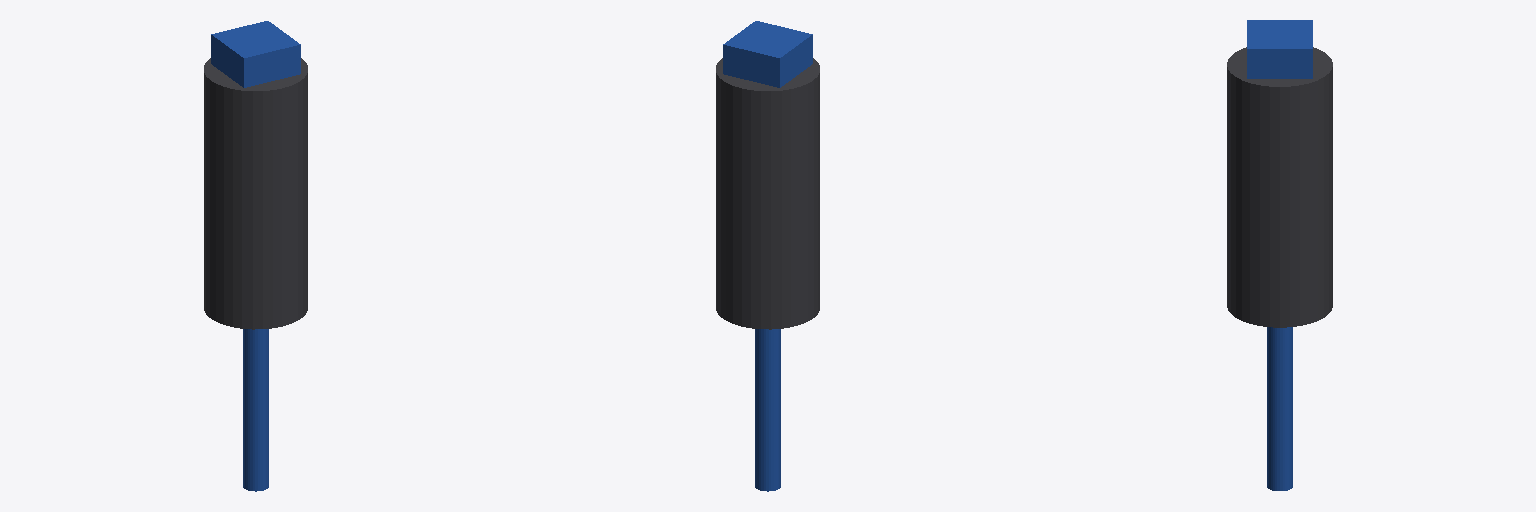
robot.urdf — bantam_cnc:
<?xml version="1.0"?>
<robot name="bantam_cnc">
  <!-- Bantam Tools Desktop CNC Milling Machine -->
  <!-- Single mesh model with work envelope simulation -->

  <!-- Materials -->
  <material name="BantamGray">
    <color rgba="0.3 0.3 0.32 1"/>
  </material>
  <material name="BantamBlue">
    <color rgba="0.2 0.4 0.7 1"/>
  </material>

  <!-- World link -->
  <link name="world"/>

  <joint name="world_joint" type="fixed">
    <parent link="world"/>
    <child link="base_link"/>
    <origin xyz="0 0 0" rpy="0 0 0"/>
  </joint>

  <!-- Base/Frame - The main CNC body -->
  <link name="base_link">
    <visual>
      <origin xyz="0 0 0" rpy="0 0 0"/>
      <geometry>
        <mesh filename="bantam_cnc.stl" scale="0.001 0.001 0.001"/>
      </geometry>
      <material name="BantamGray"/>
    </visual>
    <collision>
      <origin xyz="0 0 0" rpy="0 0 0"/>
      <geometry>
        <mesh filename="bantam_cnc.stl" scale="0.001 0.001 0.001"/>
      </geometry>
    </collision>
  </link>

  <!-- X Axis (Left-Right) - Simulated for animation -->
  <link name="x_carriage">
    <visual>
      <origin xyz="0 0 0" rpy="0 0 0"/>
      <geometry>
        <box size="0.01 0.01 0.01"/>
      </geometry>
      <material name="BantamBlue"/>
    </visual>
  </link>

  <joint name="x_axis" type="prismatic">
    <parent link="base_link"/>
    <child link="x_carriage"/>
    <origin xyz="0 0.05 0.1" rpy="0 0 0"/>
    <axis xyz="1 0 0"/>
    <limit lower="-0.1" upper="0.1" effort="100" velocity="0.1"/>
  </joint>

  <!-- Y Axis (Front-Back) -->
  <link name="y_carriage">
    <visual>
      <origin xyz="0 0 0" rpy="0 0 0"/>
      <geometry>
        <box size="0.01 0.01 0.01"/>
      </geometry>
      <material name="BantamBlue"/>
    </visual>
  </link>

  <joint name="y_axis" type="prismatic">
    <parent link="x_carriage"/>
    <child link="y_carriage"/>
    <origin xyz="0 0 0" rpy="0 0 0"/>
    <axis xyz="0 1 0"/>
    <limit lower="-0.075" upper="0.075" effort="100" velocity="0.1"/>
  </joint>

  <!-- Z Axis (Up-Down) -->
  <link name="z_carriage">
    <visual>
      <origin xyz="0 0 0" rpy="0 0 0"/>
      <geometry>
        <box size="0.01 0.01 0.01"/>
      </geometry>
      <material name="BantamBlue"/>
    </visual>
  </link>

  <joint name="z_axis" type="prismatic">
    <parent link="y_carriage"/>
    <child link="z_carriage"/>
    <origin xyz="0 0 0" rpy="0 0 0"/>
    <axis xyz="0 0 1"/>
    <limit lower="-0.05" upper="0.05" effort="100" velocity="0.05"/>
  </joint>

  <!-- Spindle -->
  <link name="spindle">
    <visual>
      <origin xyz="0 0 -0.02" rpy="0 0 0"/>
      <geometry>
        <cylinder radius="0.008" length="0.04"/>
      </geometry>
      <material name="BantamGray"/>
    </visual>
  </link>

  <joint name="spindle_joint" type="continuous">
    <parent link="z_carriage"/>
    <child link="spindle"/>
    <origin xyz="0 0 0" rpy="0 0 0"/>
    <axis xyz="0 0 1"/>
  </joint>

  <!-- Tool -->
  <link name="tool">
    <visual>
      <origin xyz="0 0 -0.015" rpy="0 0 0"/>
      <geometry>
        <cylinder radius="0.002" length="0.03"/>
      </geometry>
      <material name="BantamBlue"/>
    </visual>
  </link>

  <joint name="tool_joint" type="fixed">
    <parent link="spindle"/>
    <child link="tool"/>
    <origin xyz="0 0 -0.04" rpy="0 0 0"/>
  </joint>

</robot>

--- Render facts (derived) ---
Views: 3 orthographic renders of the robot side by side, from view 1: azimuth 30°, elevation 25°; view 2: azimuth 150°, elevation 25°; view 3: azimuth 270°, elevation 25°.
Robot: bantam_cnc — 7 links, 6 joints (1 continuous, 3 prismatic, 2 fixed); root link world; default pose: all joints at 0.
Links seen in each view (by area): view 1: spindle, x_carriage, tool; view 2: spindle, x_carriage, tool; view 3: spindle, tool, x_carriage.
Link boxes in pixels (left/top/right/bottom): spindle: left=204, top=58, right=307, bottom=329; x_carriage: left=211, top=21, right=300, bottom=87; tool: left=243, top=329, right=268, bottom=491; spindle: left=716, top=58, right=819, bottom=329; x_carriage: left=723, top=21, right=812, bottom=87; tool: left=755, top=329, right=780, bottom=491; spindle: left=1227, top=47, right=1332, bottom=327; tool: left=1267, top=327, right=1292, bottom=490; x_carriage: left=1247, top=20, right=1312, bottom=78.
Bounding box of the posed robot: 0.016 × 0.016 × 0.075 m (x, y, z).
0 mesh visuals loaded from 1 distinct referenced files (none loaded); not drawn: 1 (reference not matched to a file when rendering).
